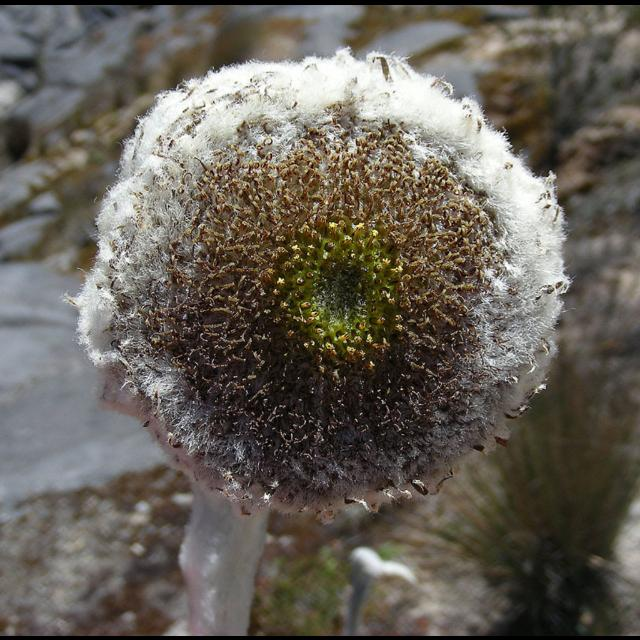Flower: (80, 4, 608, 526)
